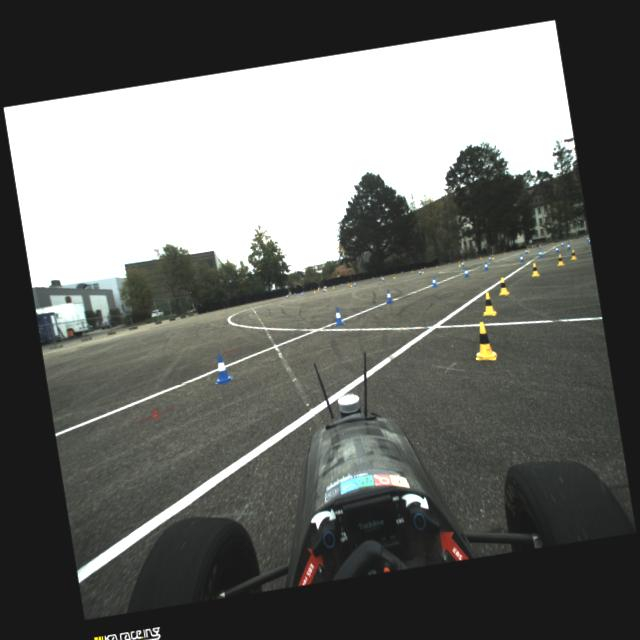blue_cone: (210, 352, 233, 386), (332, 307, 346, 326), (384, 289, 394, 303), (431, 276, 438, 287), (463, 268, 470, 278), (483, 262, 489, 270), (518, 254, 524, 262), (538, 250, 544, 258), (554, 246, 560, 254), (566, 242, 572, 250), (524, 248, 528, 254), (488, 256, 492, 261), (300, 291, 304, 296), (382, 276, 385, 282), (418, 270, 421, 274), (561, 242, 564, 246), (587, 236, 589, 242), (588, 238, 590, 244), (324, 287, 326, 292), (462, 262, 464, 266), (286, 294, 288, 298), (288, 294, 290, 298), (294, 292, 296, 296), (302, 290, 304, 294), (318, 287, 320, 291), (340, 282, 342, 286), (354, 282, 356, 286), (372, 276, 374, 280), (424, 266, 426, 270), (532, 245, 534, 249), (568, 238, 570, 242), (401, 271, 403, 274), (449, 262, 451, 265), (468, 258, 470, 261), (550, 242, 552, 245), (584, 235, 586, 238), (512, 250, 514, 252)
yellow_cone: (472, 321, 498, 363), (480, 292, 497, 318), (496, 277, 511, 296), (530, 262, 540, 278), (556, 252, 565, 266), (570, 250, 578, 260), (458, 261, 462, 267), (526, 247, 530, 252), (492, 254, 495, 260), (421, 268, 424, 274), (324, 285, 327, 291), (552, 241, 555, 247), (350, 282, 353, 286), (393, 274, 396, 278), (314, 288, 316, 293), (317, 287, 319, 292), (332, 284, 334, 288), (348, 282, 350, 286), (381, 275, 383, 279), (412, 269, 414, 273), (436, 264, 438, 268), (480, 256, 482, 260), (570, 238, 572, 242), (586, 234, 588, 238), (504, 252, 506, 254), (462, 260, 464, 262)
